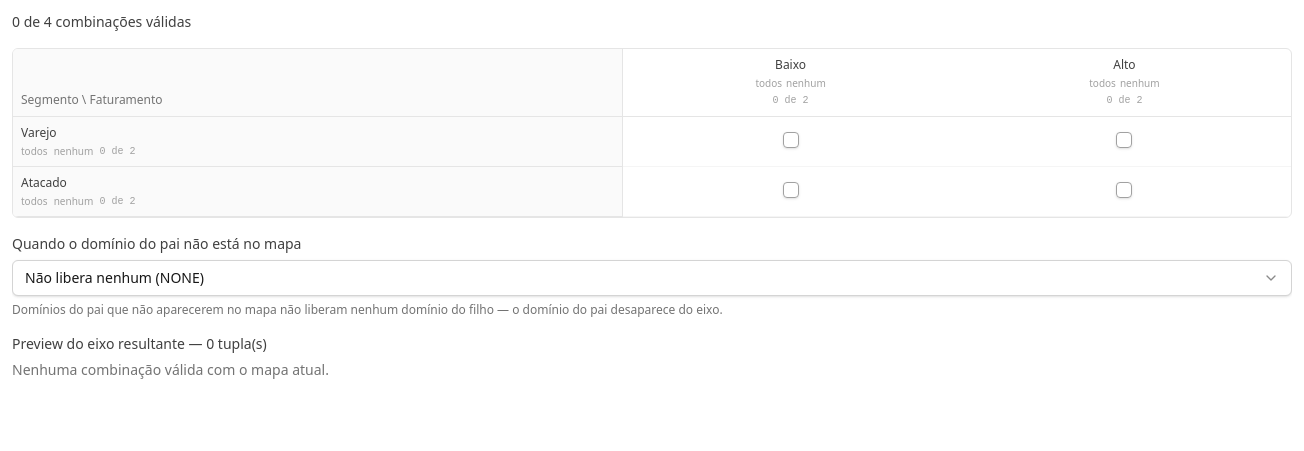
Test: CompatibilityMapEditor — marcar/desmarcar atualiza contador e preview na hora › "todos" na linha marca as duas colunas daquela linha
This screenshot has width=1304, height=451.
Click the button "todos" below "Varejo": (34,151) [21,145,48,158]
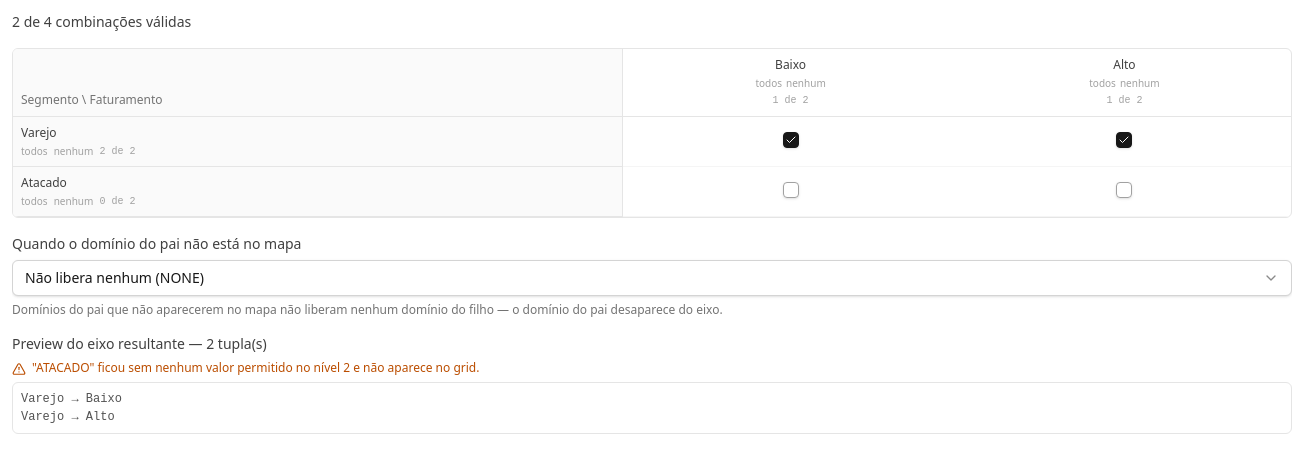
Expected: the checkbox named "Varejo → Baixo" is checked, [783,132,799,148]
Expected: the checkbox named "Varejo → Alto" is checked, [1116,132,1132,148]
Expected: the text "2 de 4 combinações válidas" is shown, [12,12,191,32]
